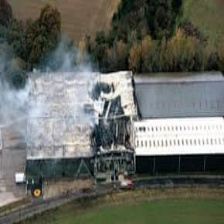smoke: (2, 70, 103, 136)
